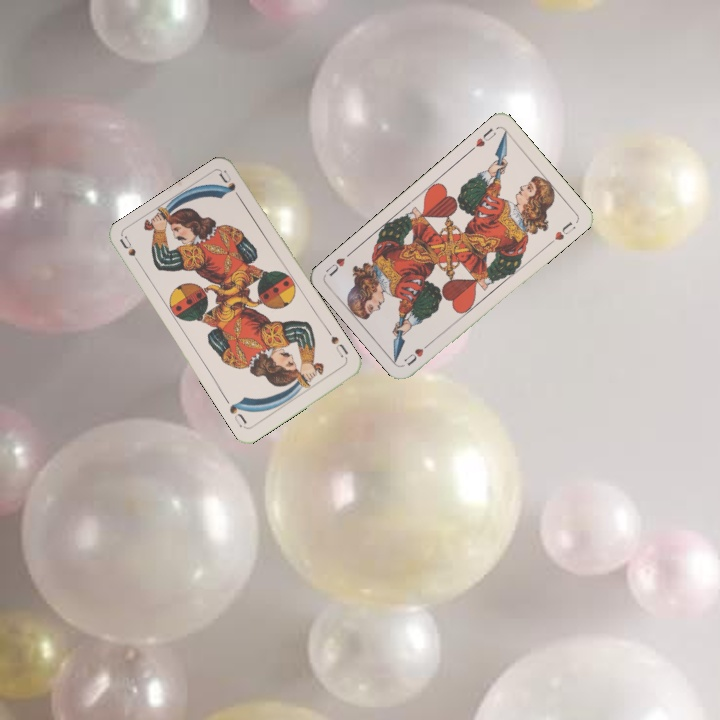HU: (400, 338, 434, 368), (466, 124, 499, 154)
SU: (117, 233, 146, 271), (323, 326, 351, 363)
